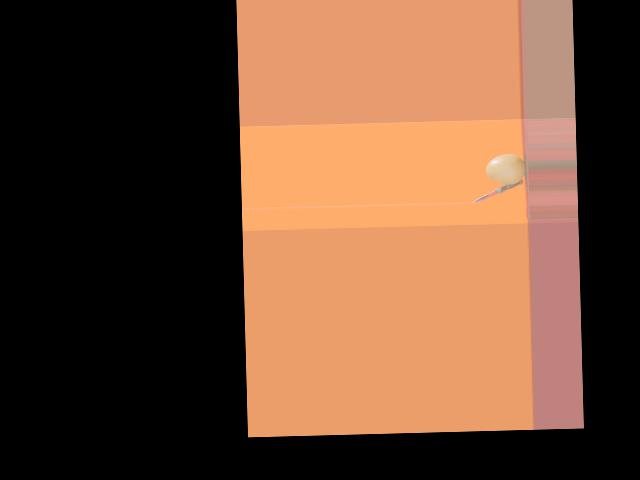egg: (486, 154, 525, 185)
